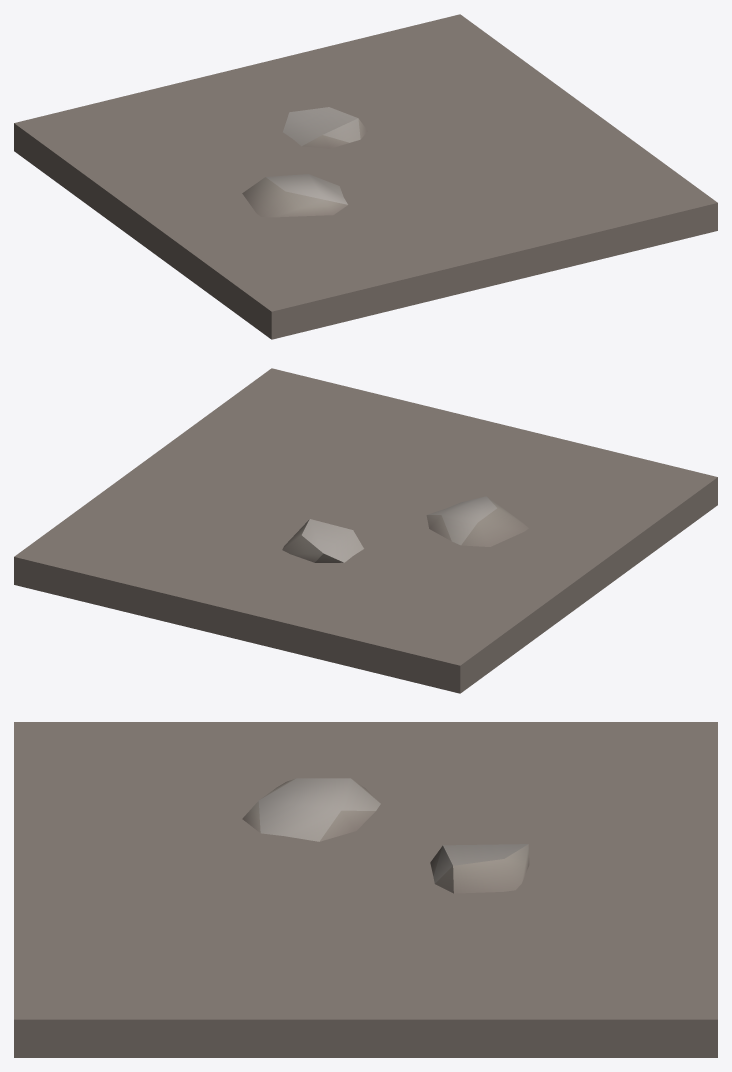
The model's file is floor_dirt_small_B.gltf.
3 renders of one model, top to bottom at view 1: azimuth 30°, elevation 25°; view 2: azimuth 150°, elevation 25°; view 3: azimuth 270°, elevation 25°, orthographic. The views are drawn at different scales.
Visible parts, largest first — view 1: floor_dirt_small_B; view 2: floor_dirt_small_B; view 3: floor_dirt_small_B.
Part boxes in pixels (x1,y1,x2,y2): floor_dirt_small_B: [14, 14, 717, 339]; floor_dirt_small_B: [14, 368, 717, 693]; floor_dirt_small_B: [14, 722, 717, 1057].
Bounding box in the file's own units: 2 × 0.1886 × 2.
Materials: 1 (1 with a texture image).
